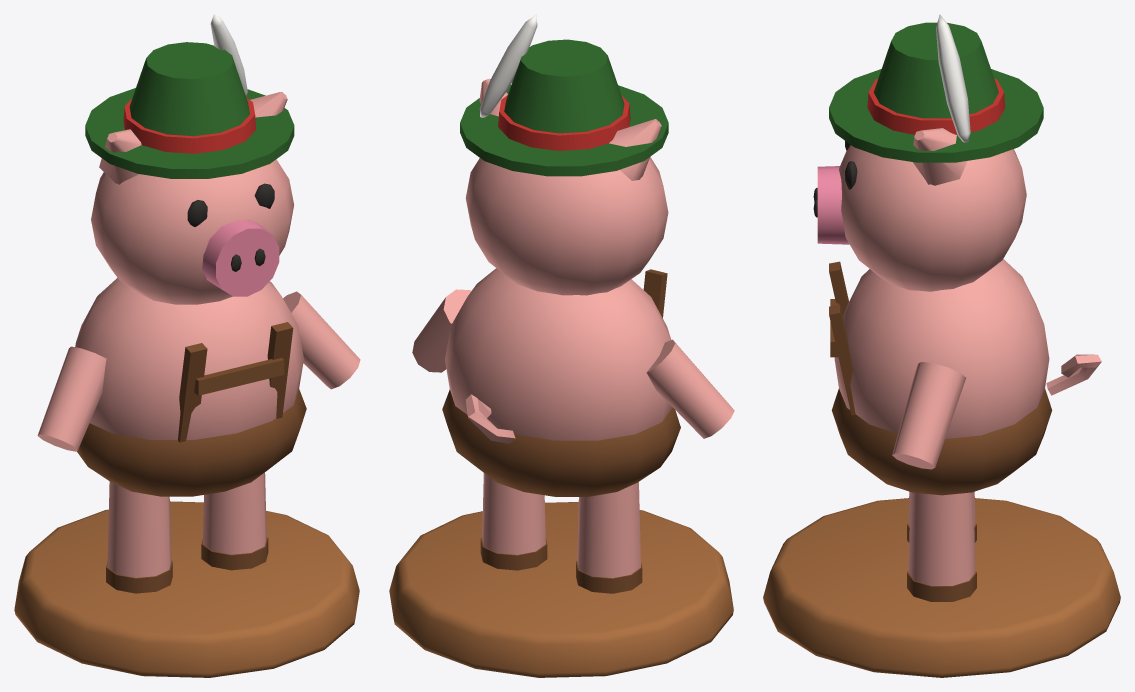
The model's file is porco_mascote.glb.
3 views of the same model, side by side, from view 1: azimuth 30°, elevation 25°; view 2: azimuth 150°, elevation 25°; view 3: azimuth 270°, elevation 25° (orthographic). The views are drawn at different scales.
Parts seen in each view (by area): view 1: Porco_Mascote; view 2: Porco_Mascote; view 3: Porco_Mascote.
Boxes of the visible parts, x1,y1,x2,y2 form: Porco_Mascote: [14, 14, 360, 677]; Porco_Mascote: [389, 14, 734, 677]; Porco_Mascote: [763, 14, 1120, 677].
Bounding box in the file's own units: 0.6649 × 1.18 × 0.6327.
